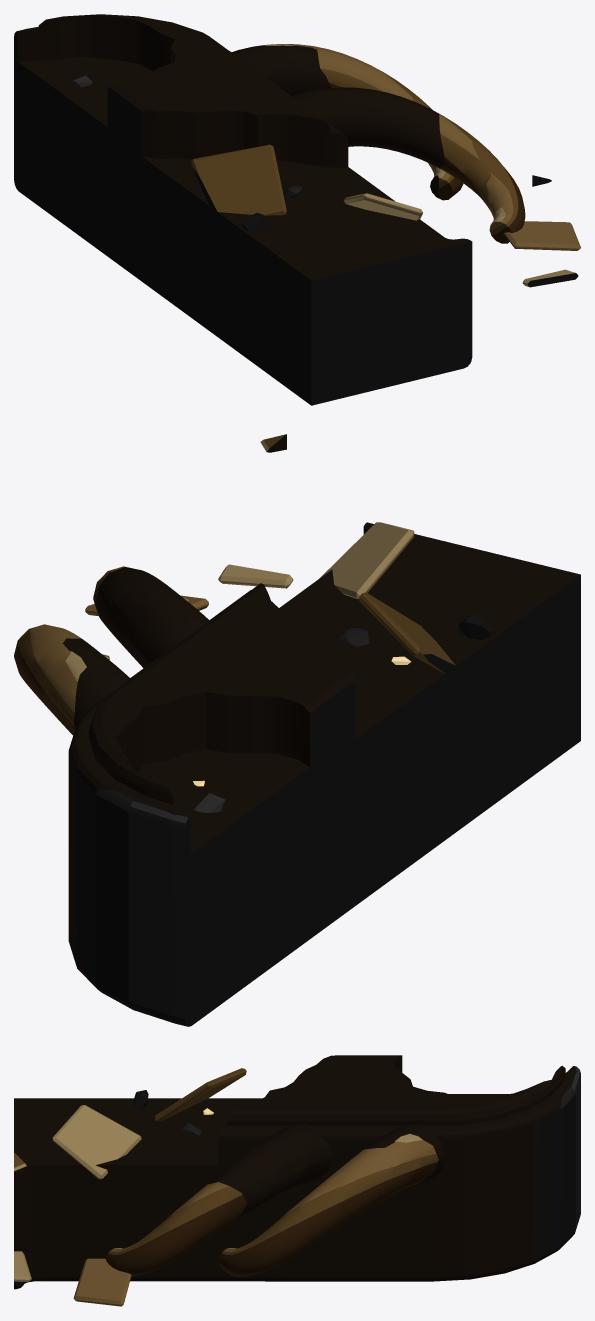
File: gold_pyramid_tr_wreck.glb
3 views of the same model, one above another, from view 1: azimuth 30°, elevation 25°; view 2: azimuth 150°, elevation 25°; view 3: azimuth 270°, elevation 25° (orthographic). The views are drawn at different scales.
Parts seen in each view (by area): view 1: gold_pyramid_tr_wreck; view 2: gold_pyramid_tr_wreck; view 3: gold_pyramid_tr_wreck.
Boxes of the visible parts, x1=… form: gold_pyramid_tr_wreck: x1=14, y1=14, x2=580, y2=405; gold_pyramid_tr_wreck: x1=14, y1=434, x2=580, y2=1026; gold_pyramid_tr_wreck: x1=14, y1=1055, x2=580, y2=1306.
Bounding box in the file's own units: 15.36 × 8.19 × 25.
